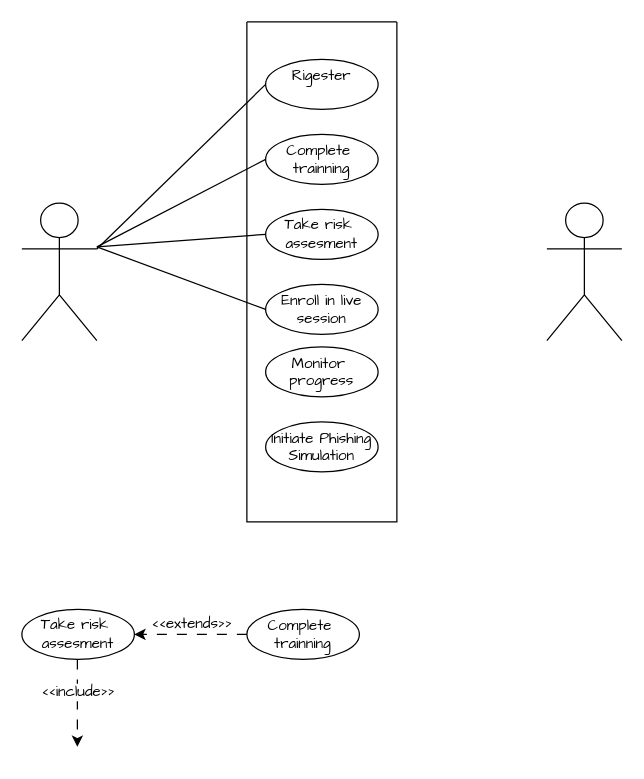
The diagram is 644 pixels wide and 779 high, and some of its shapes have lost their labels. The centre of each missing label's shape, as x and y in pixels:
"Admin" belongs at point 584,271.
"user" belongs at point 59,271.
